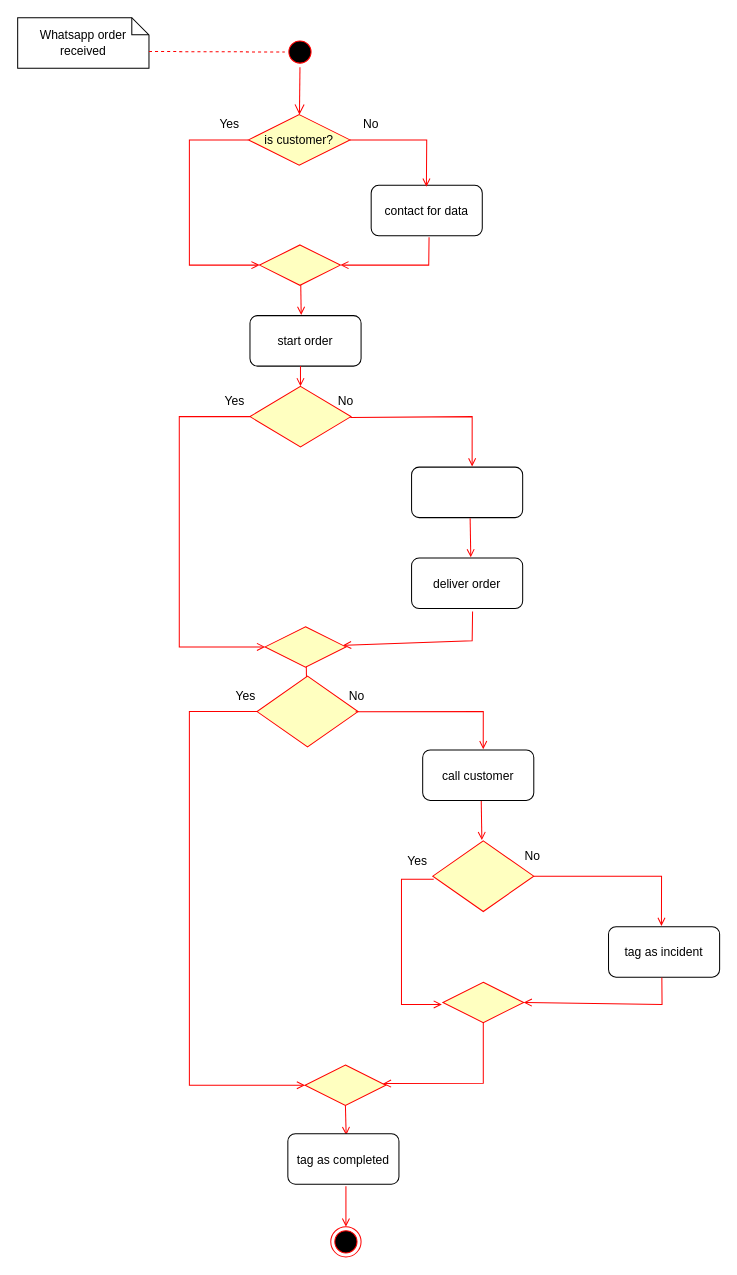
The diagram is 737 pixels wide and 1275 high, and some of its shapes have lost their labels. The shapes that lost their labels are listed below. From the top down, each one's box as (x1, y1, x2, y2) in pixels, then its label:
(249, 385, 351, 447): for pickup ?
(411, 466, 523, 518): warn delivery driver
(256, 675, 358, 747): Delivery confirmed?
(432, 840, 534, 912): Solved?
